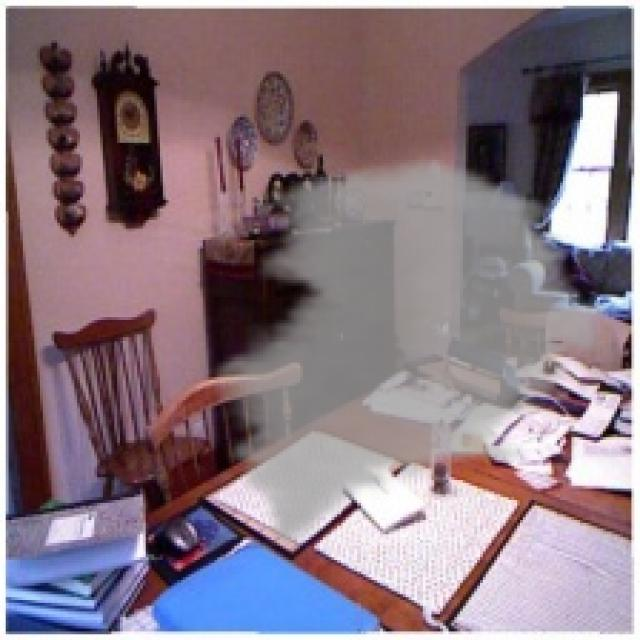smoke: (200, 154, 617, 549)
